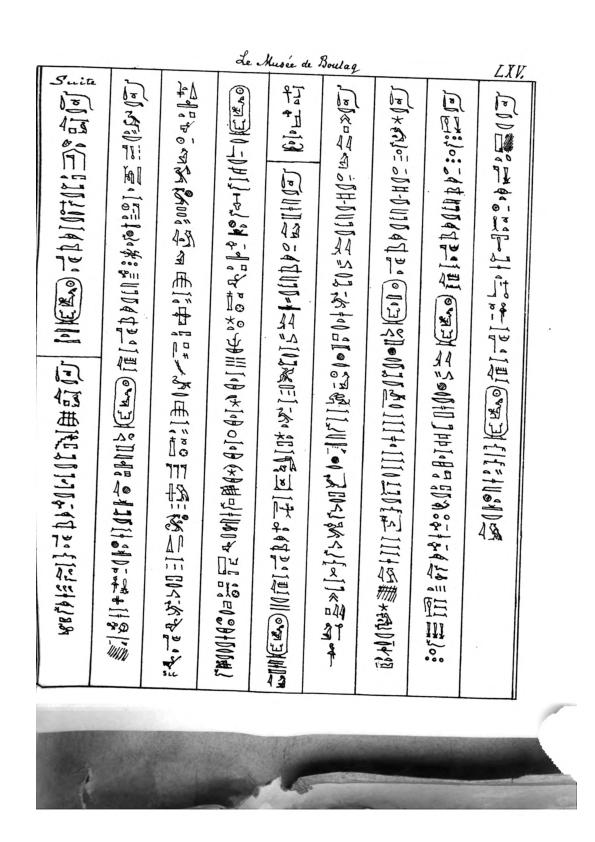circle: (429, 292, 462, 349), (482, 383, 510, 442), (111, 374, 139, 430), (379, 278, 411, 326), (53, 276, 81, 326), (227, 84, 252, 136), (264, 611, 290, 660)
